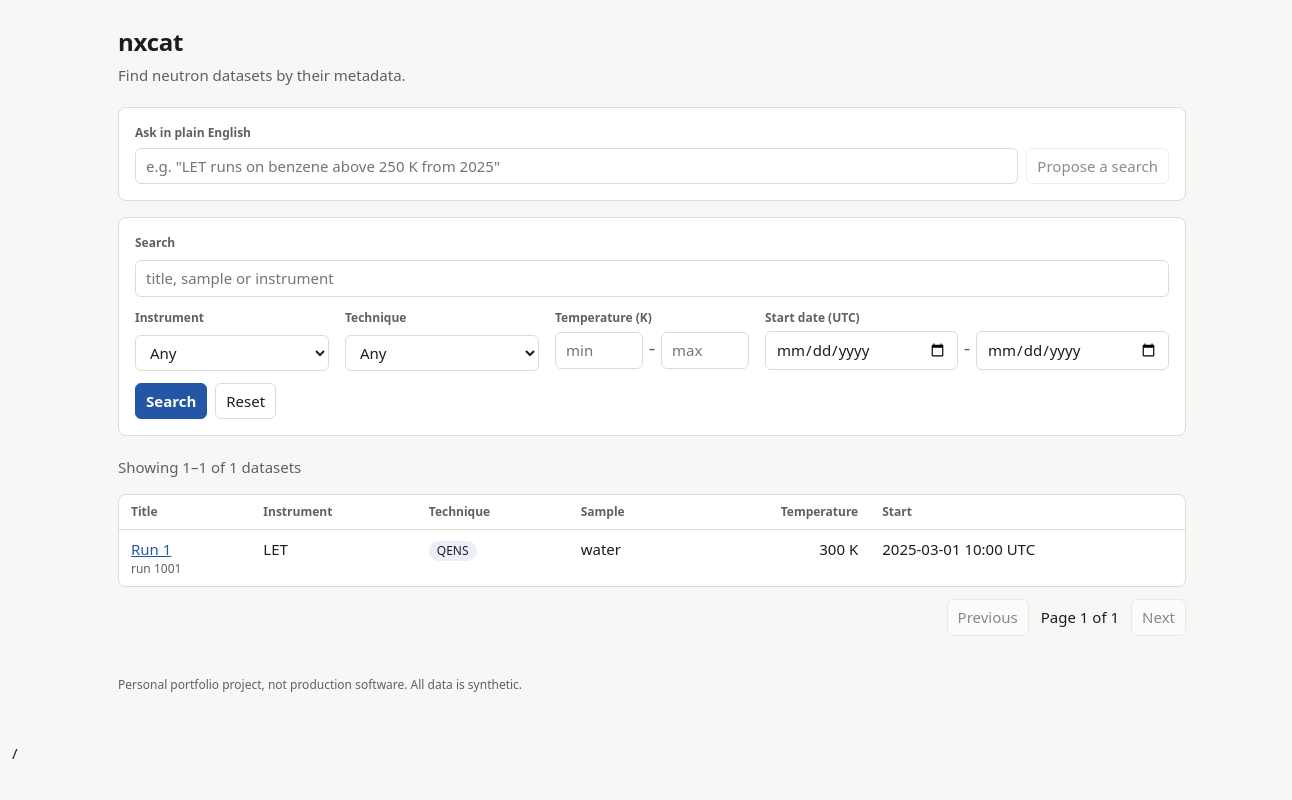
Test: SearchPage › shows the API reason when the filters are invalid
Expected: the table is shown, x1=119 y1=494 x2=1185 y2=586
In the number field named "Minimum temperature (K)": (599,351) x1=555 y1=332 x2=643 y2=369, type "300"
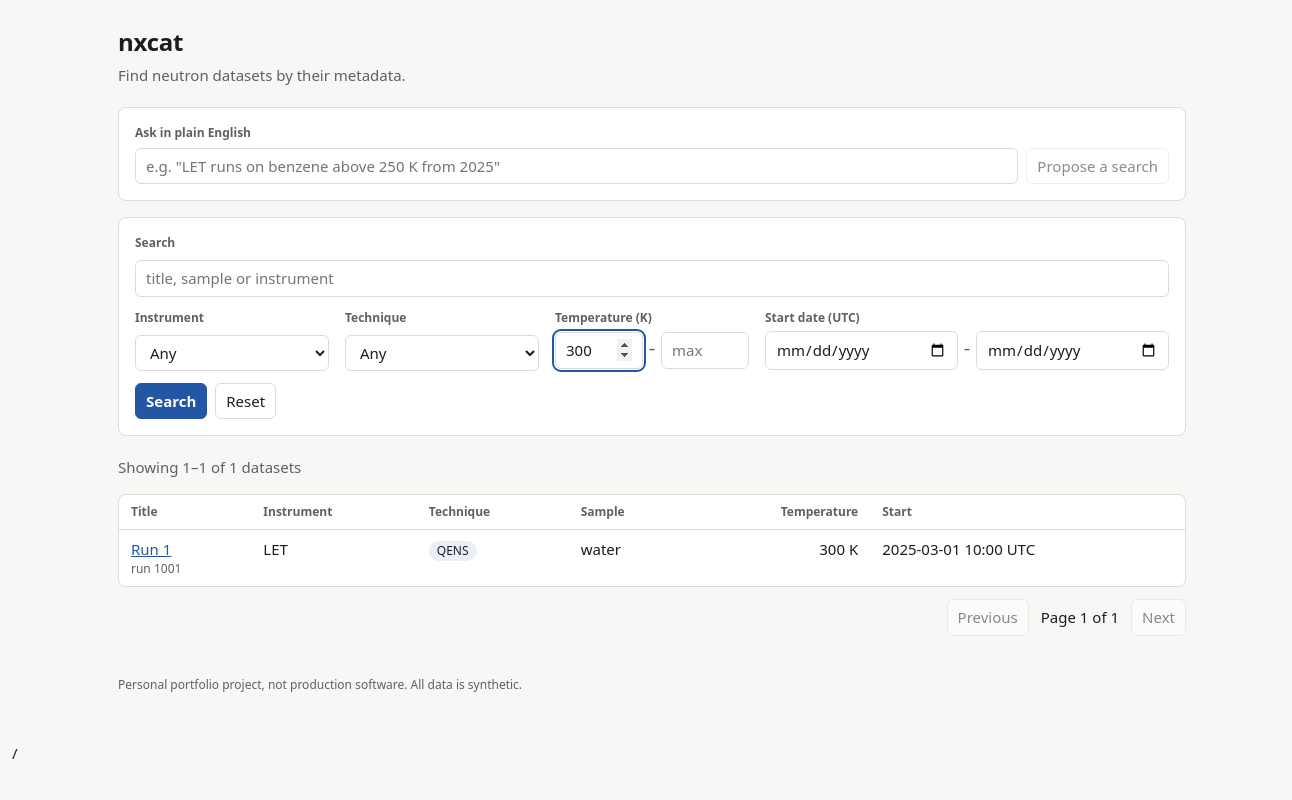
In the number field named "Maximum temperature (K)": (705,351) x1=661 y1=332 x2=749 y2=369, type "10"
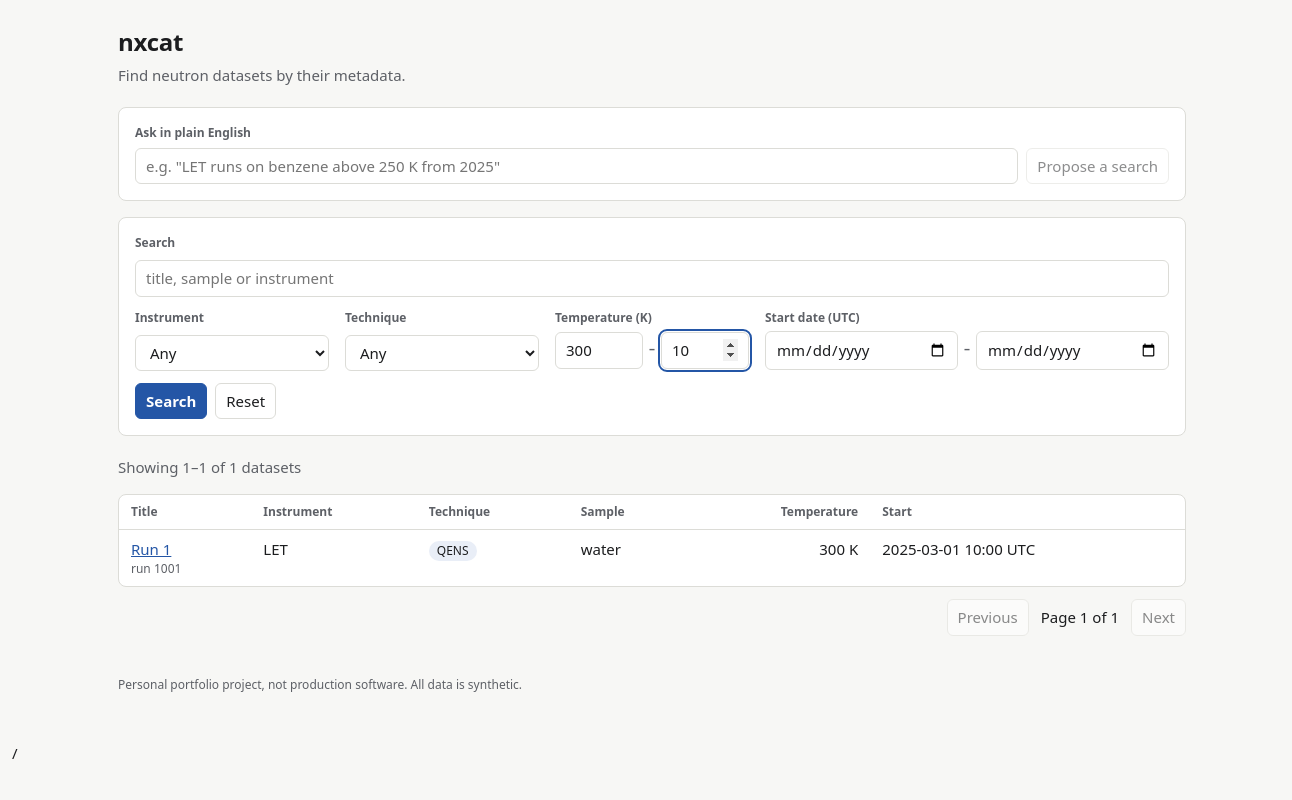
Click the button "Search": (171,401) x1=135 y1=382 x2=207 y2=419
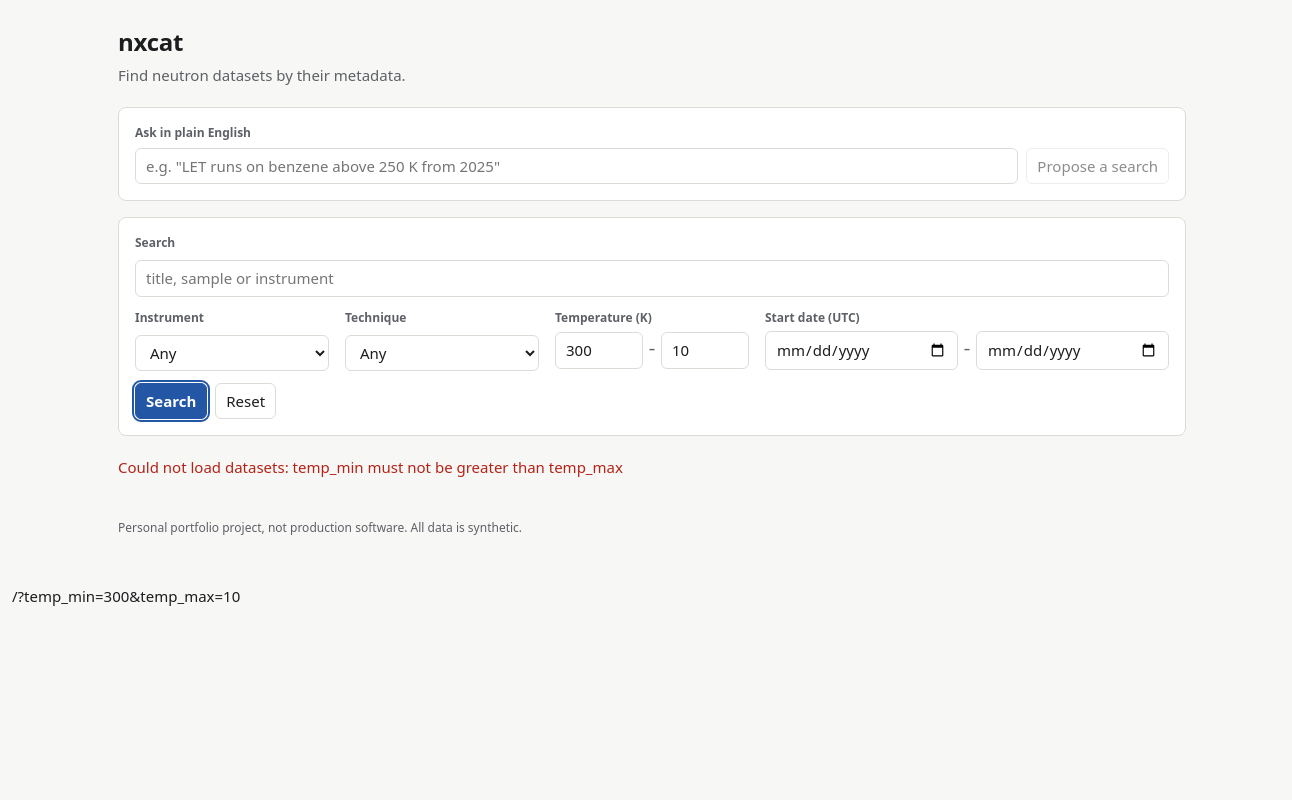
Result: the message reads "Could not load datasets: temp_min must not be greater than temp_max" at x1=118 y1=457 x2=623 y2=477
